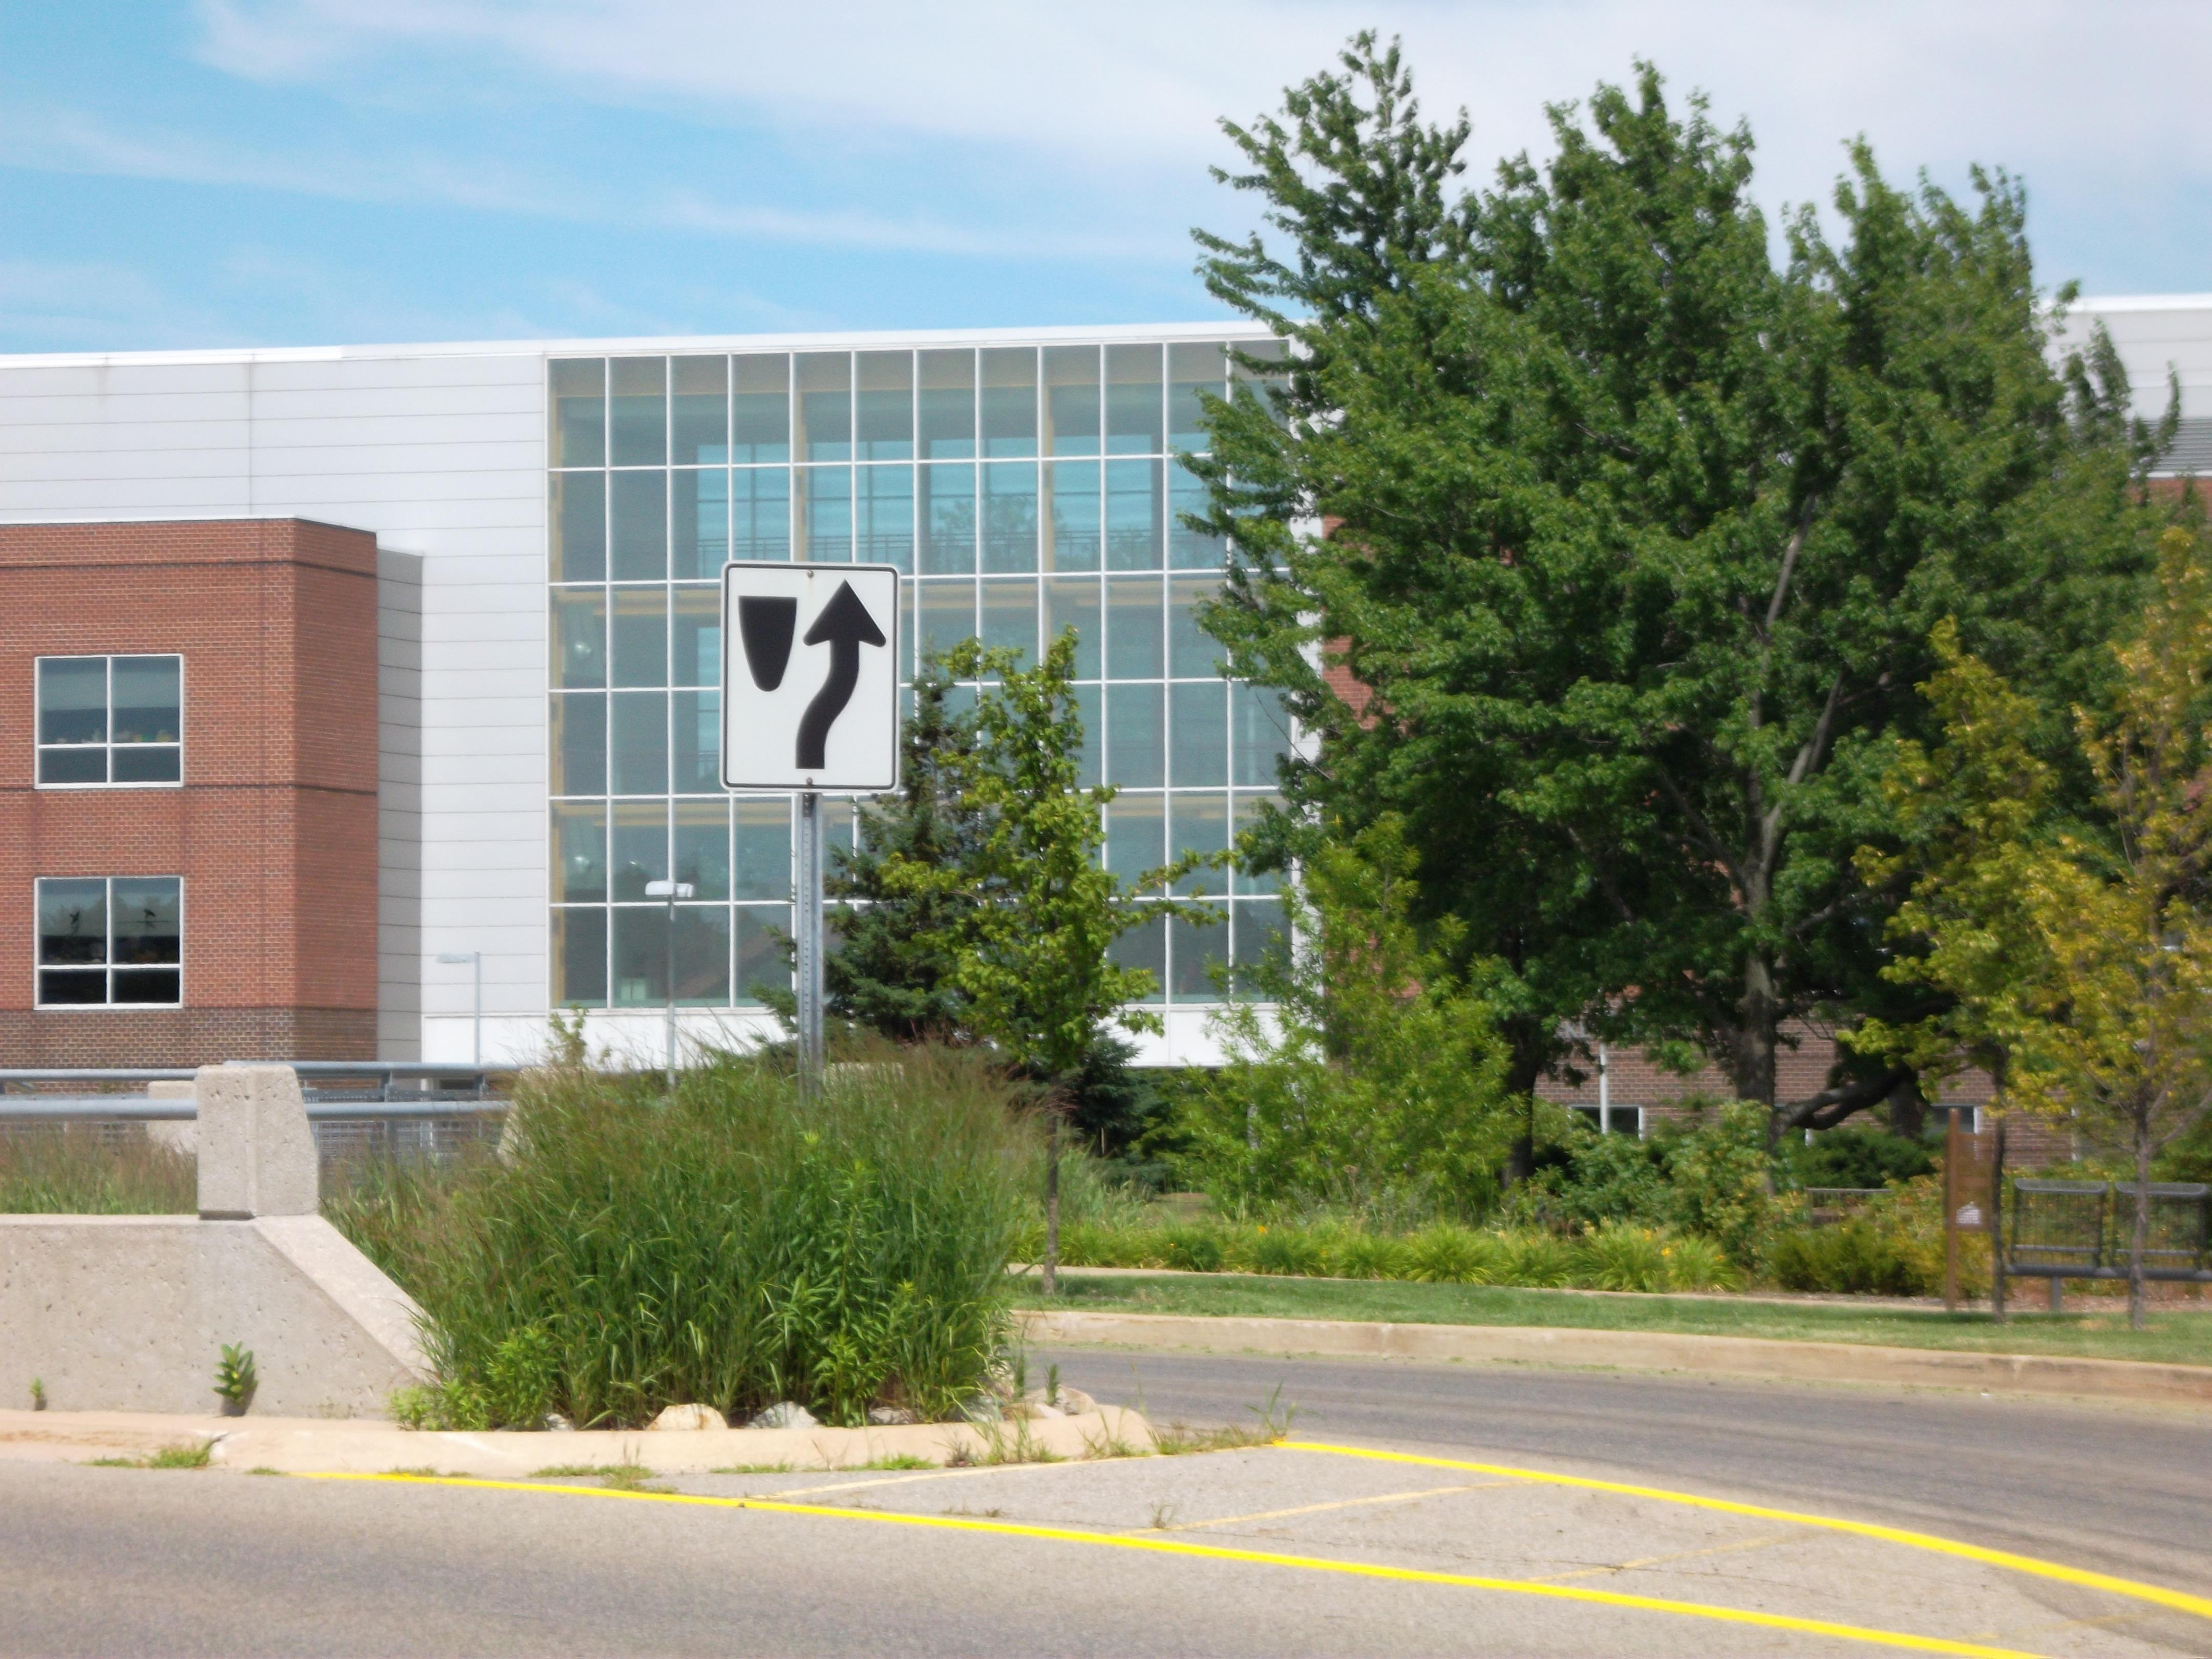regulatory: (714, 556, 907, 803)
